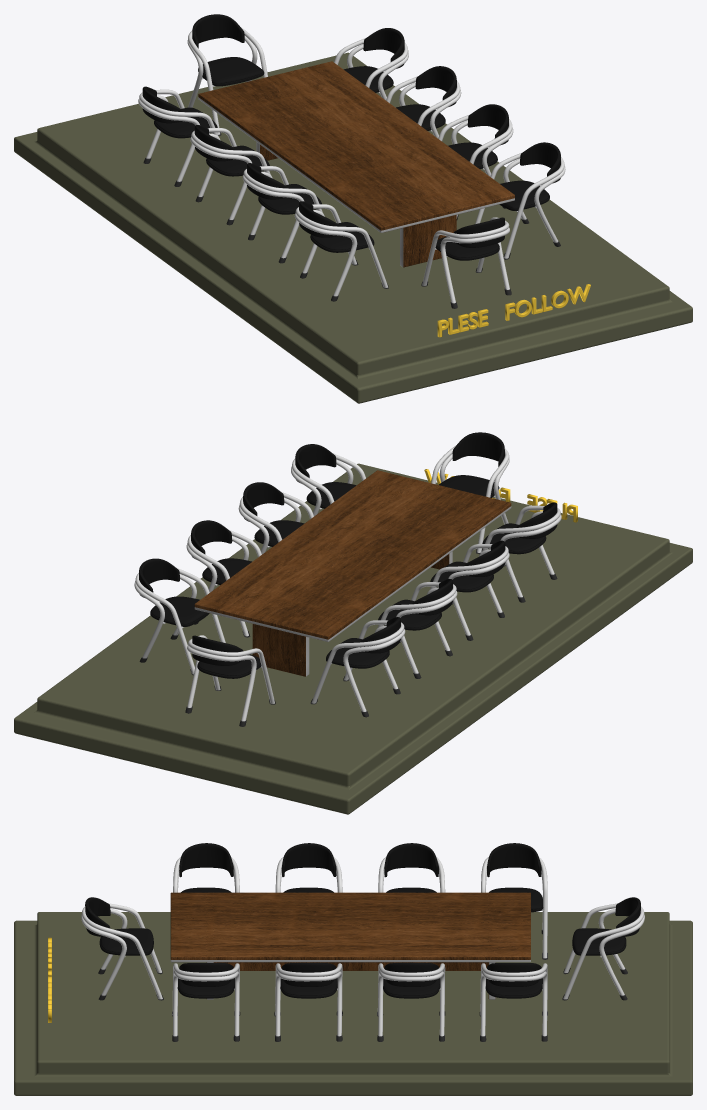
The model's file is ConferenceTable.glb.
The picture shows the model from 3 angles, top to bottom: view 1: azimuth 30°, elevation 25°; view 2: azimuth 150°, elevation 25°; view 3: azimuth 270°, elevation 25°; orthographic projection.
Visible parts, largest first — view 1: zamain_4, MIZ_3, Object_4, Object_5, Object_8, Object_9, Text_5; view 2: zamain_4, MIZ_3, Object_4, Object_5, Object_8, Object_9, Text_5; view 3: zamain_4, MIZ_3, Object_4, Object_5, Object_9, Object_8, Object_6.
Boxes of the visible parts, bbox=[...] form: zamain_4: bbox=[14, 52, 692, 403]; MIZ_3: bbox=[198, 61, 514, 267]; Object_4: bbox=[142, 28, 560, 252]; Object_5: bbox=[138, 38, 565, 296]; Object_8: bbox=[192, 14, 504, 260]; Object_9: bbox=[187, 27, 509, 303]; Text_5: bbox=[437, 284, 590, 337]; zamain_4: bbox=[14, 463, 692, 814]; MIZ_3: bbox=[194, 470, 511, 676]; Object_4: bbox=[139, 444, 557, 668]; Object_5: bbox=[134, 453, 561, 711]; Object_8: bbox=[192, 432, 504, 678]; Object_9: bbox=[187, 445, 509, 721]; Text_5: bbox=[424, 469, 577, 522]; zamain_4: bbox=[14, 912, 692, 1095]; MIZ_3: bbox=[170, 892, 530, 999]; Object_4: bbox=[177, 843, 543, 998]; Object_5: bbox=[172, 857, 547, 1036]; Object_9: bbox=[81, 903, 644, 999]; Object_8: bbox=[85, 897, 640, 955]; Object_6: bbox=[172, 929, 547, 1041].
Size of the model in its own units: 43.92 by 14.44 by 78.17.
7 materials, 1 textured.
